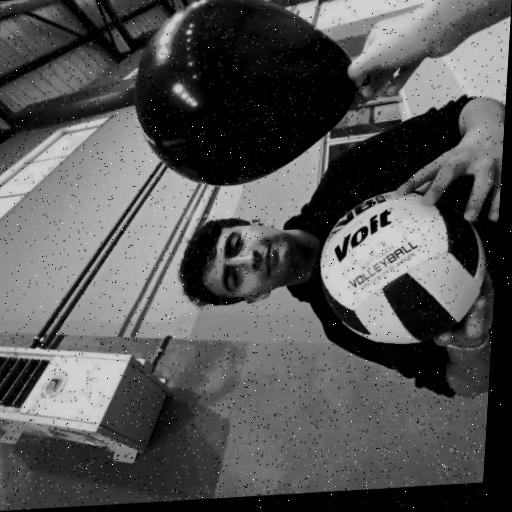balloon: (122, 0, 364, 193)
